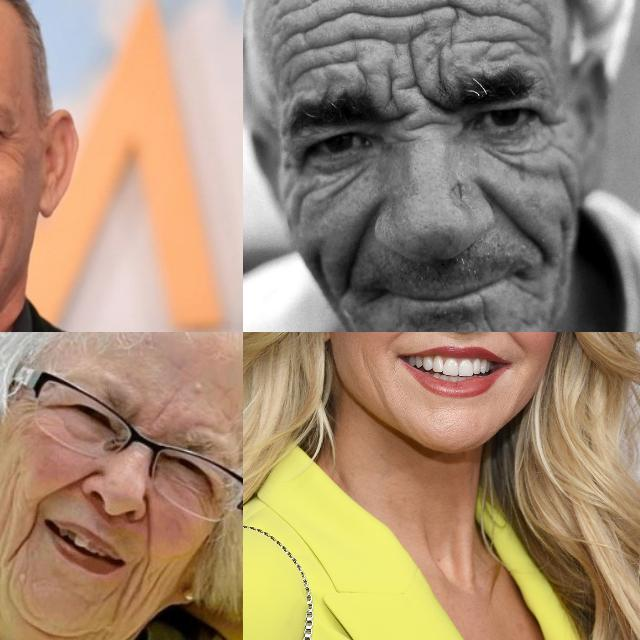chin: (472, 307, 510, 332)
crows_feet: (281, 174, 325, 210), (537, 100, 569, 128), (1, 128, 26, 158)
forehead: (280, 34, 364, 78), (506, 0, 554, 52), (442, 0, 500, 32), (281, 0, 362, 22), (375, 0, 433, 28)
frown_line: (424, 37, 456, 94), (397, 115, 447, 142), (378, 66, 404, 114), (404, 48, 426, 104), (147, 384, 171, 432)
gummy_smile: (491, 194, 552, 256), (339, 212, 371, 280), (46, 454, 90, 502), (135, 500, 165, 564), (497, 332, 529, 357)
masseter: (356, 348, 390, 404), (128, 552, 156, 616), (1, 455, 26, 501)
sad_smile: (13, 499, 39, 561), (109, 568, 129, 624)
